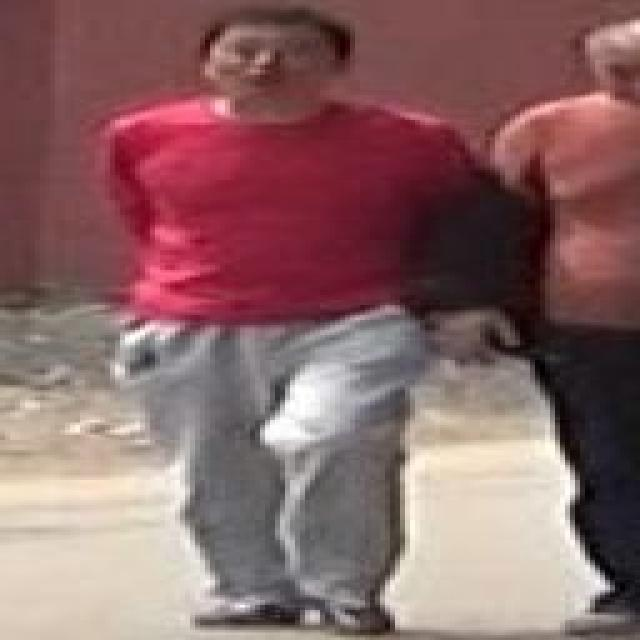adult: (102, 14, 515, 633), (497, 22, 640, 628)
